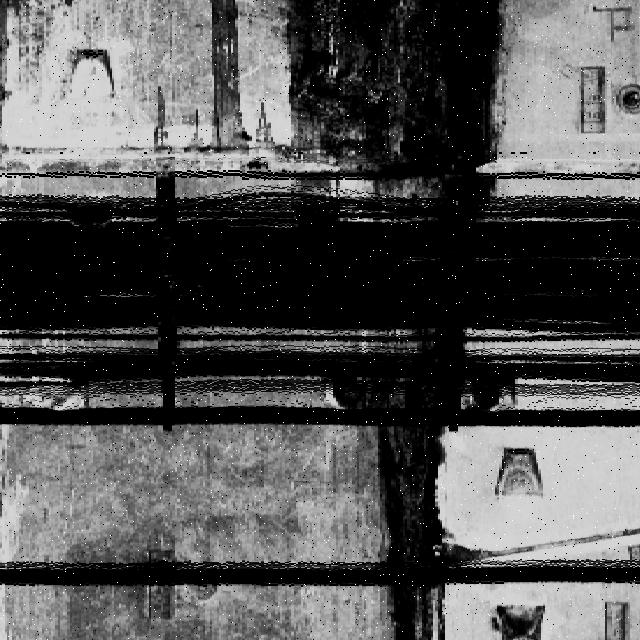leakage: (333, 367, 523, 639), (288, 0, 516, 202), (200, 0, 252, 154)
